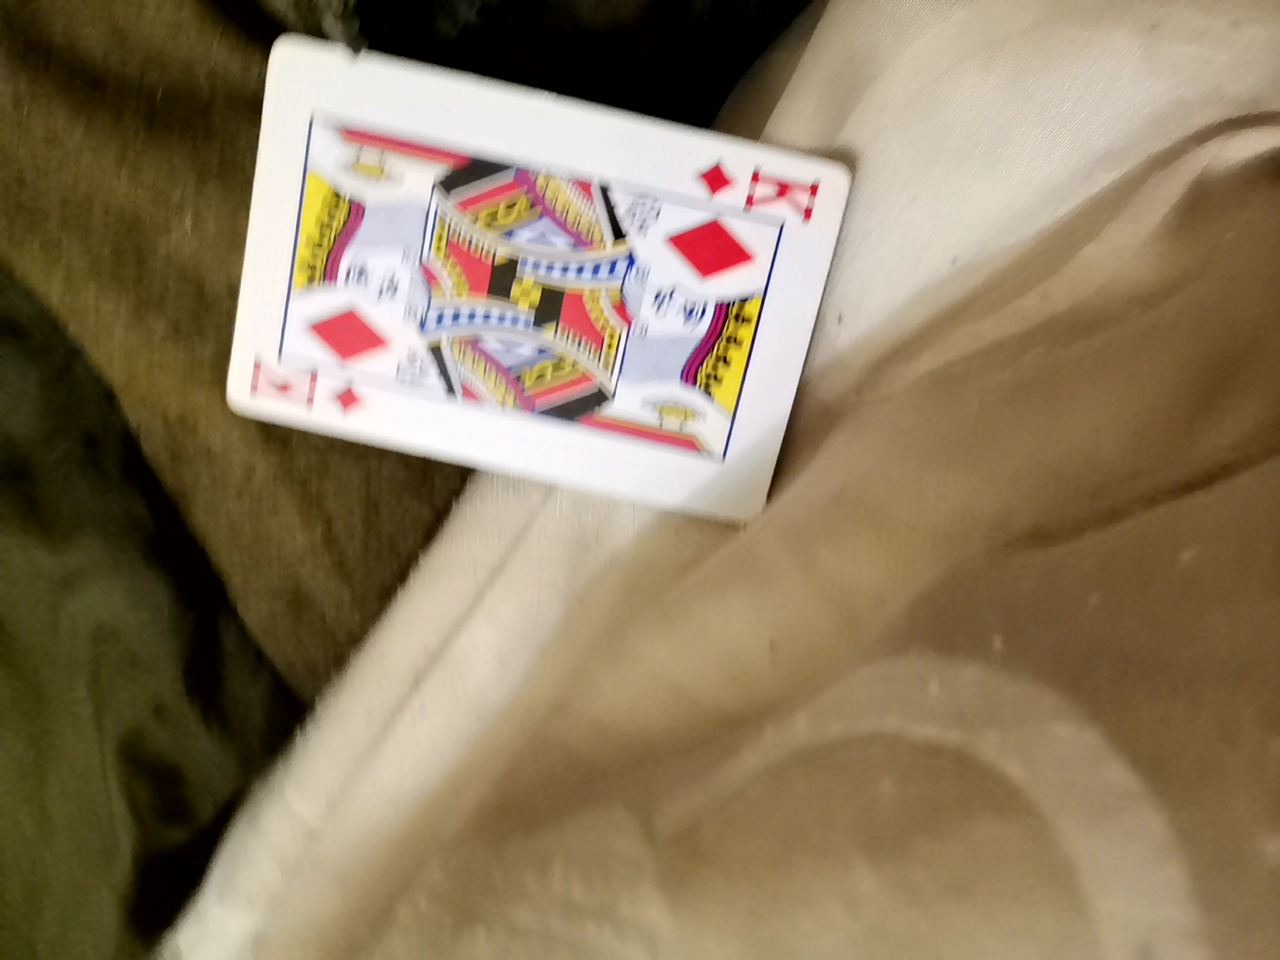fk k: (213, 85, 833, 554)
